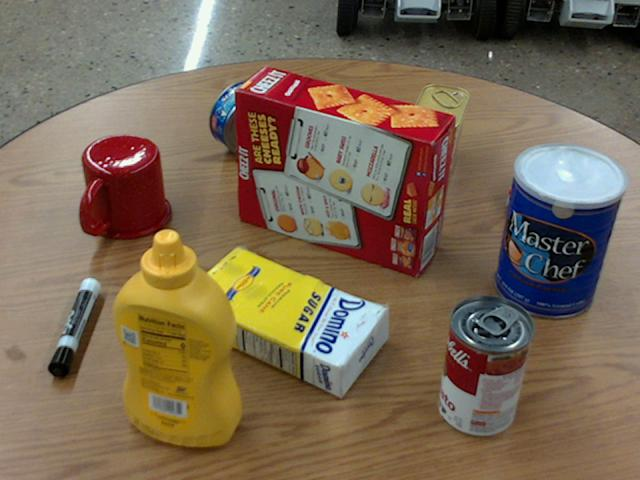cracker_box: (234, 68, 453, 275)
gelatin_box: (508, 153, 592, 224)
large_marker: (47, 277, 99, 374)
master_chef_can: (494, 143, 625, 318)
mug: (80, 134, 171, 238)
mustard_bottle: (110, 229, 238, 444)
potted_meat_can: (408, 84, 469, 186)
sugar_box: (179, 245, 388, 398)
tomato_soup_can: (438, 296, 533, 437)
tuna_fish_can: (208, 81, 280, 155)
